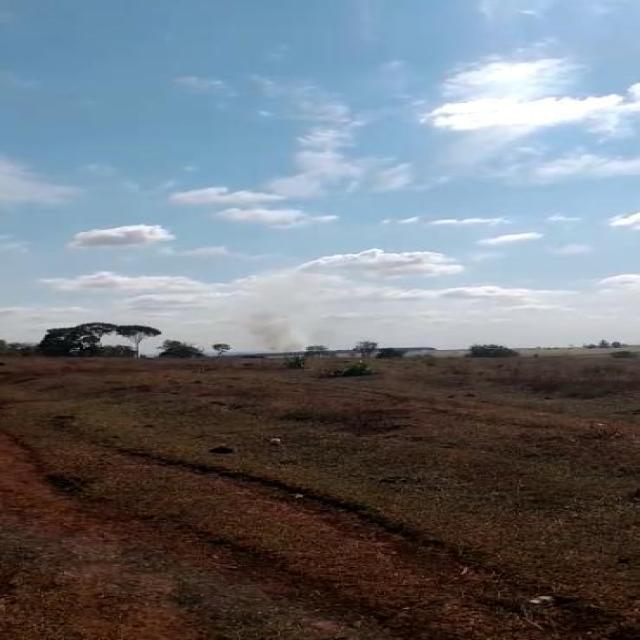Smoke: (266, 305, 315, 361)
